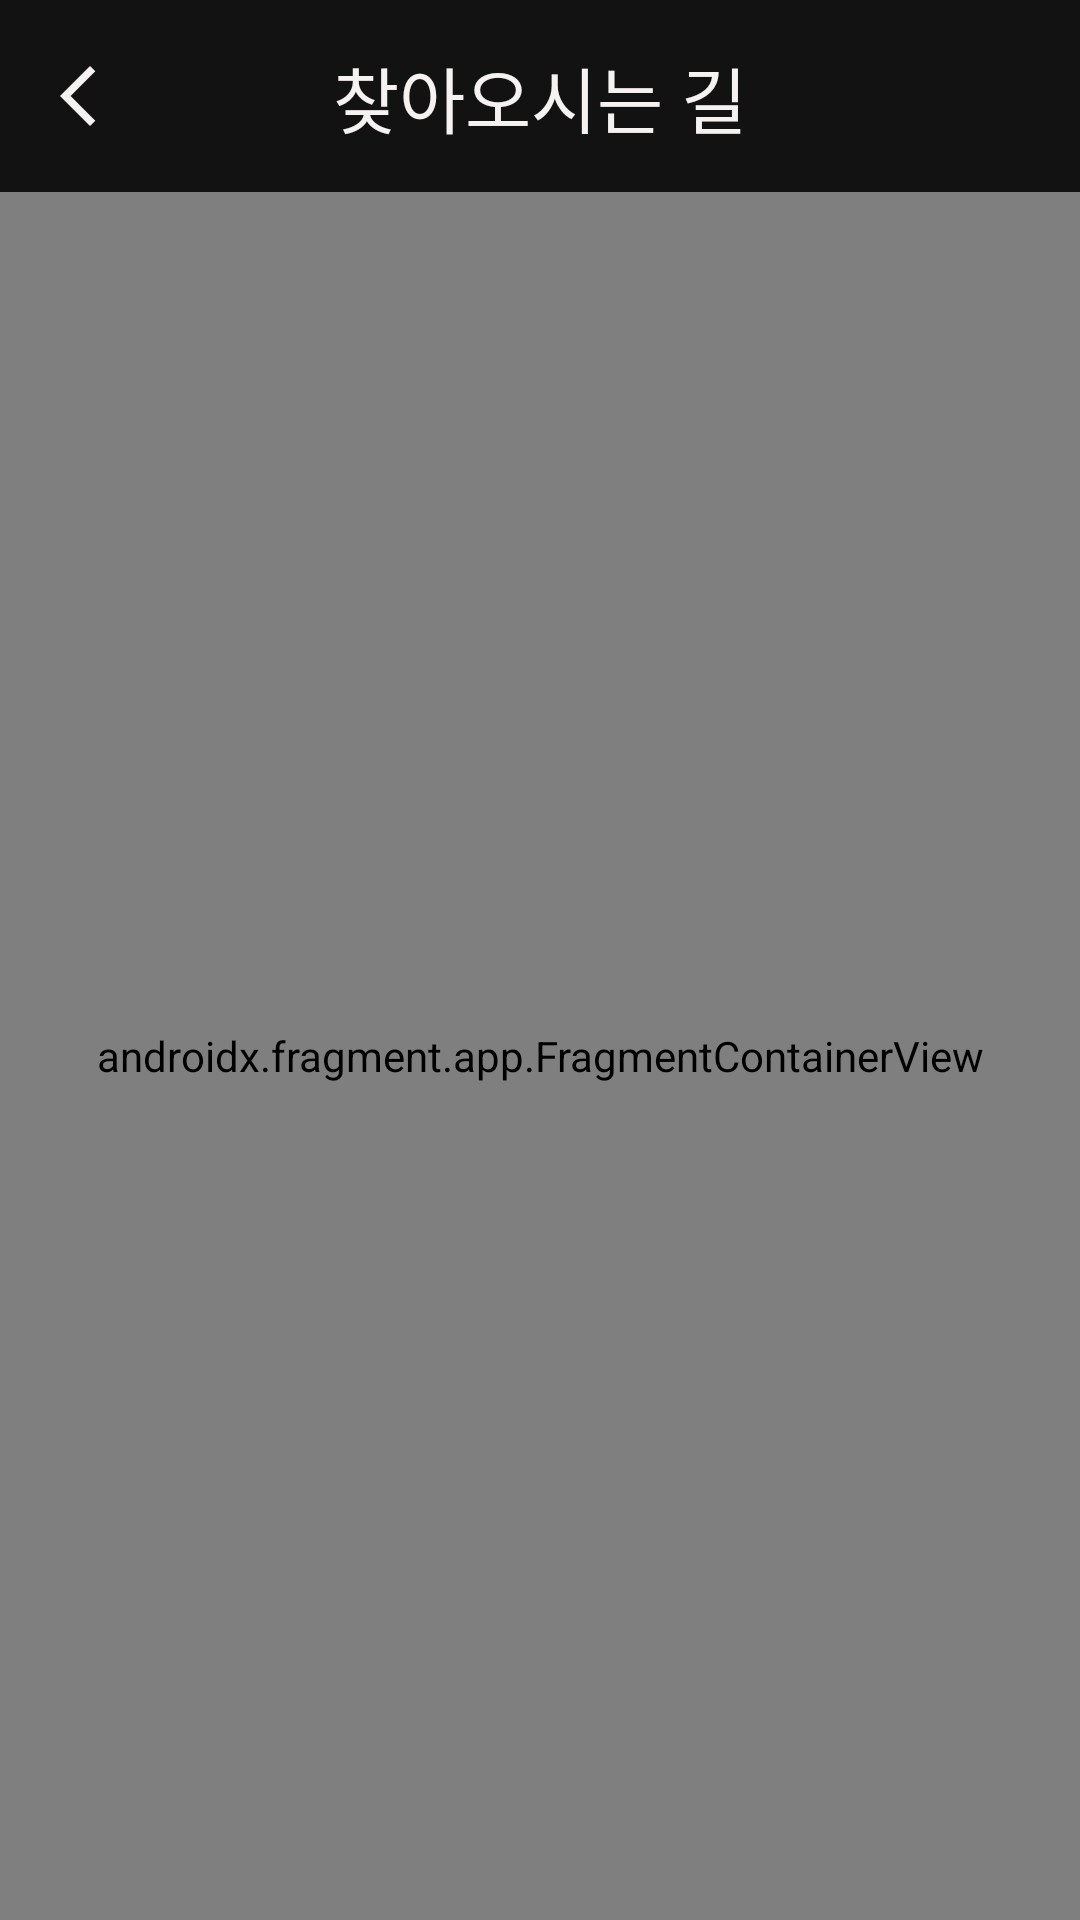

Icons on this 1080px x 1920px Android screen, each with the point to tap as (x,y):
back: (77,96)
